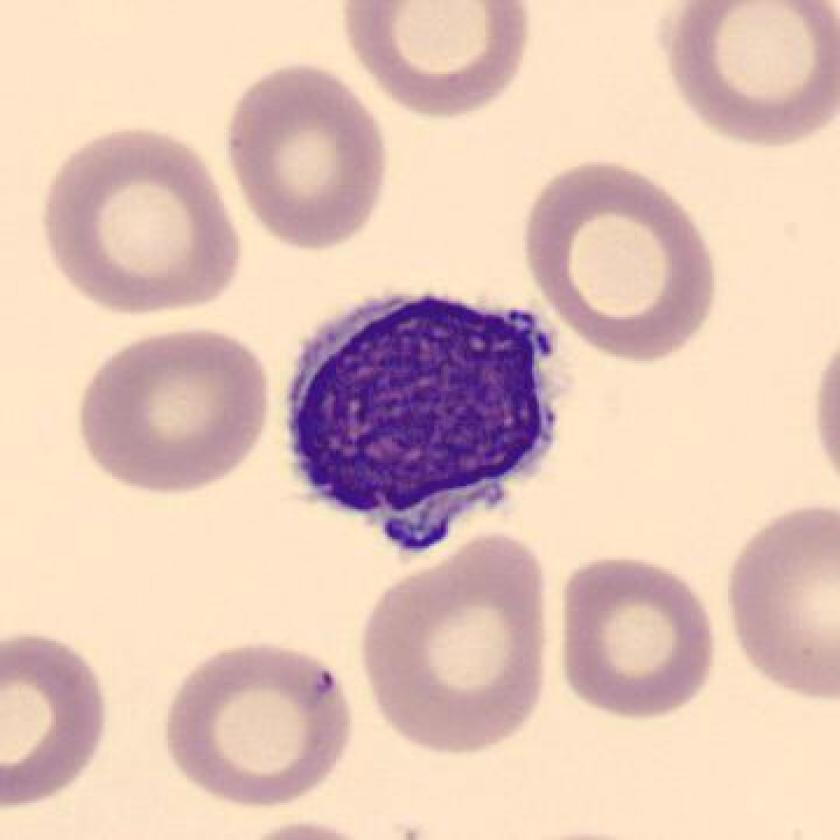lymphocyte: (267, 272, 584, 568)
